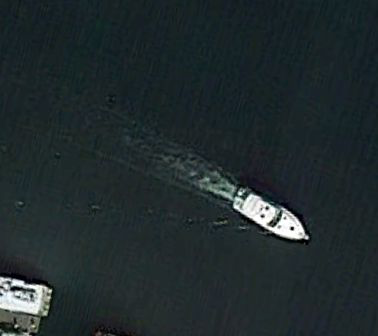boat: (230, 186, 309, 243)
